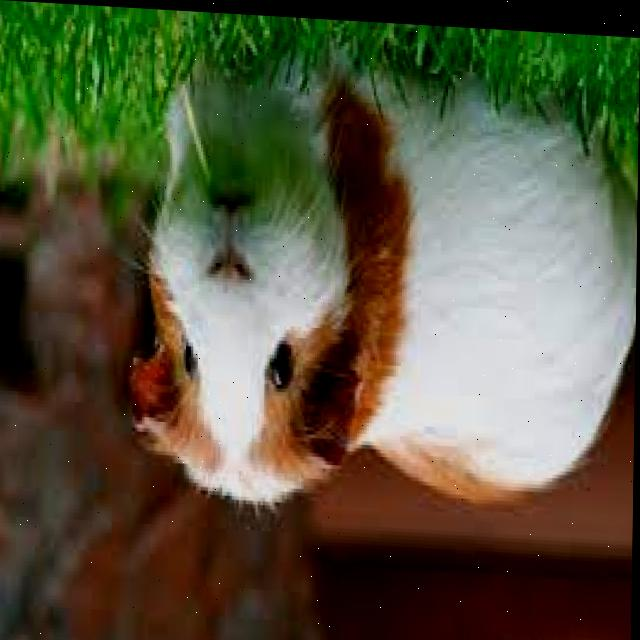guinea pig: (118, 39, 640, 530)
